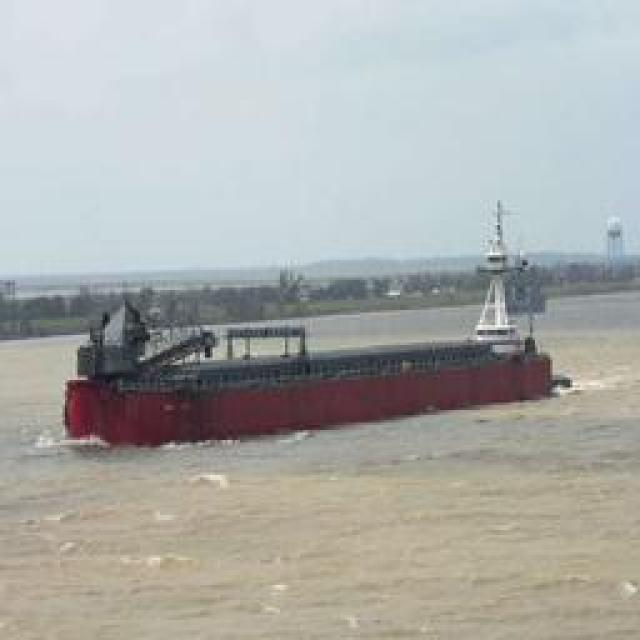Ship: (59, 289, 556, 459)
